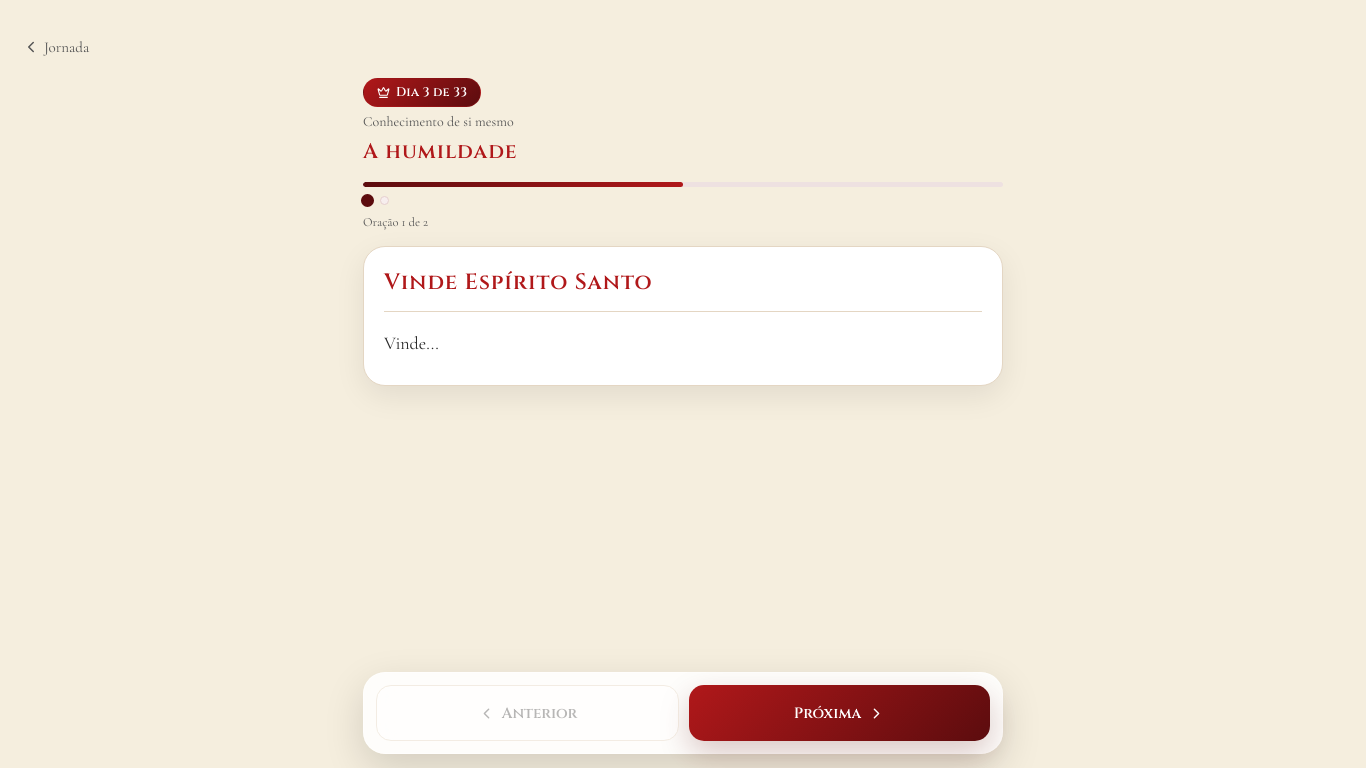
Test: ConsecrationDay › explains why a future day cannot be completed yet
This screenshot has width=1366, height=768.
Expected: the heading "A humildade" is shown, [363,138,518,166]
Click the button "Próxima": (840, 713) [689,685,990,741]
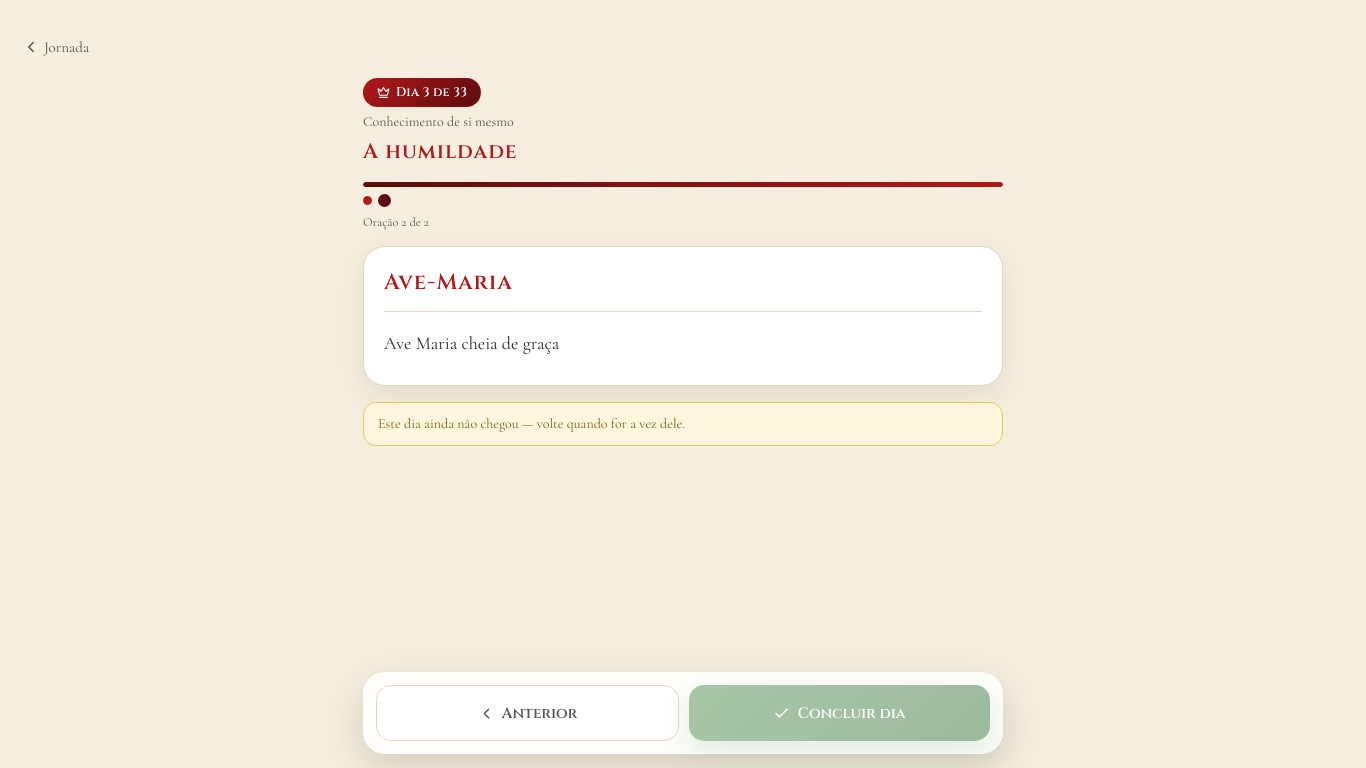
Now the text "Este dia ainda não chegou — volte quando for a vez dele." is shown, box [363,402,1003,446]
